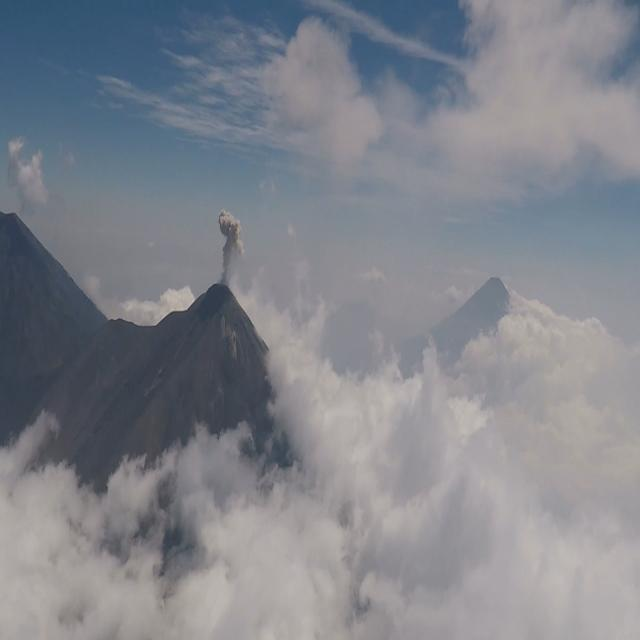Plume: (216, 206, 246, 278)
Summit: (164, 276, 256, 324)
